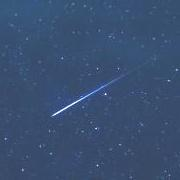meteorite: (46, 78, 122, 119)
